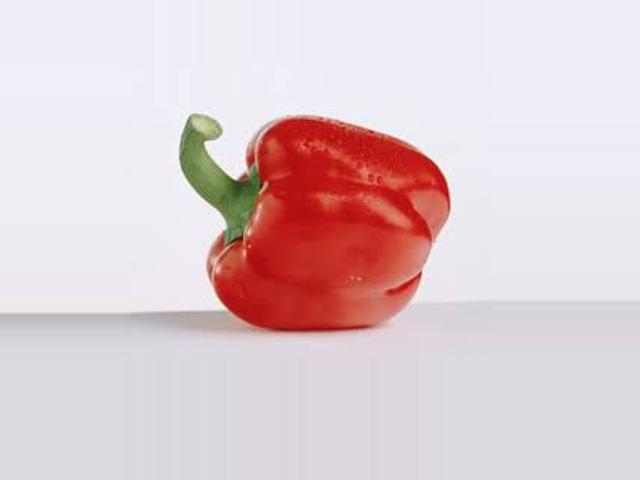bell_pepper: (152, 103, 462, 340)
